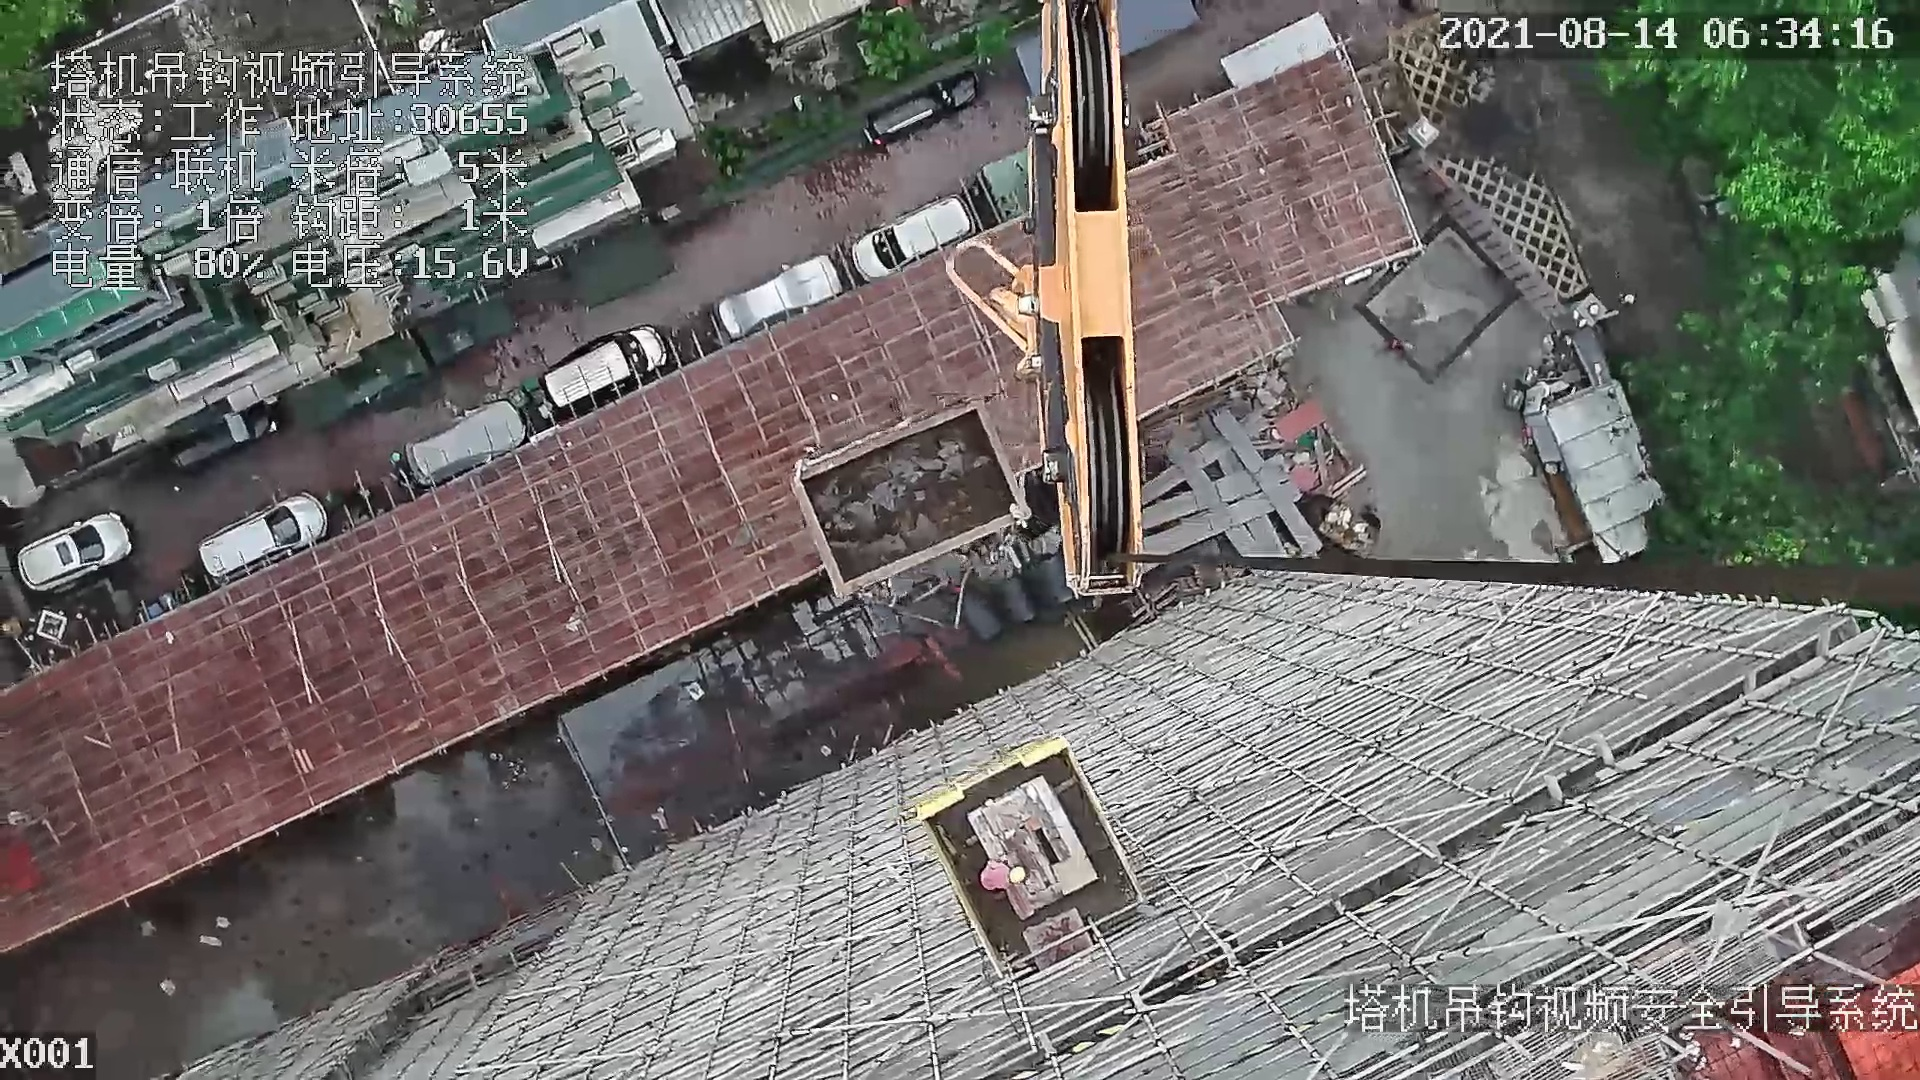helmet: (1010, 864, 1027, 887)
hook: (941, 1, 1146, 594)
hopper: (785, 410, 1046, 587)
person: (979, 856, 1037, 904)
